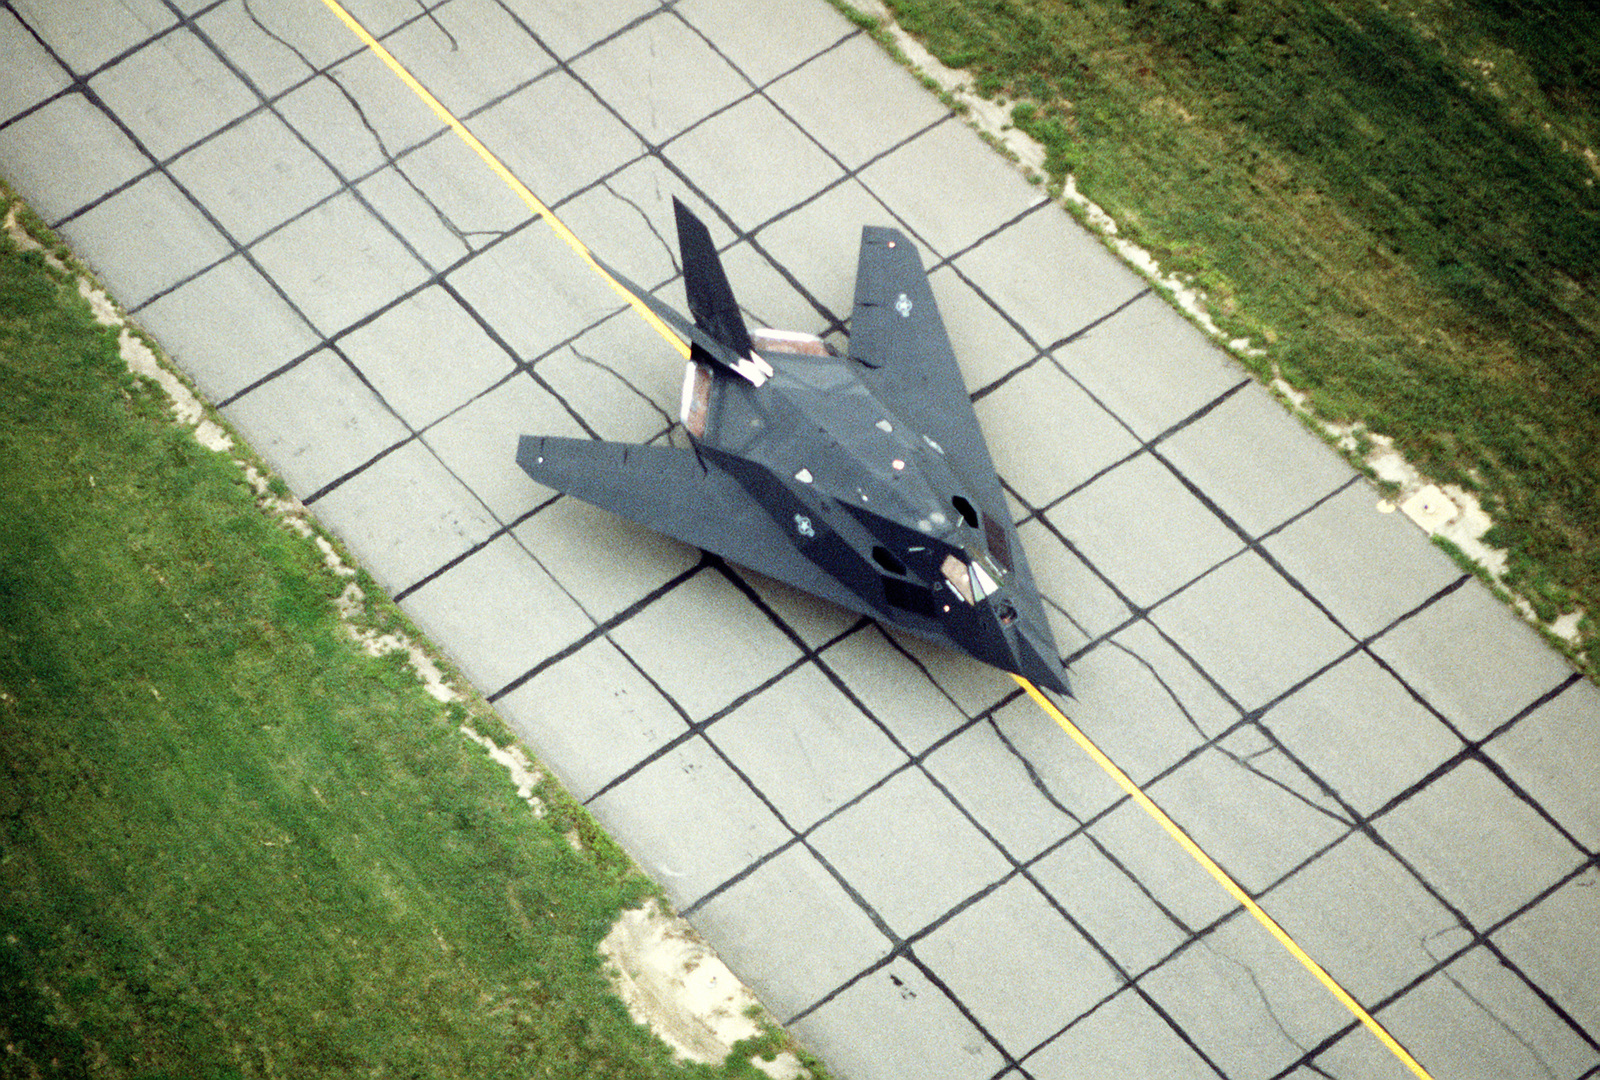airplane: (514, 192, 1083, 705)
